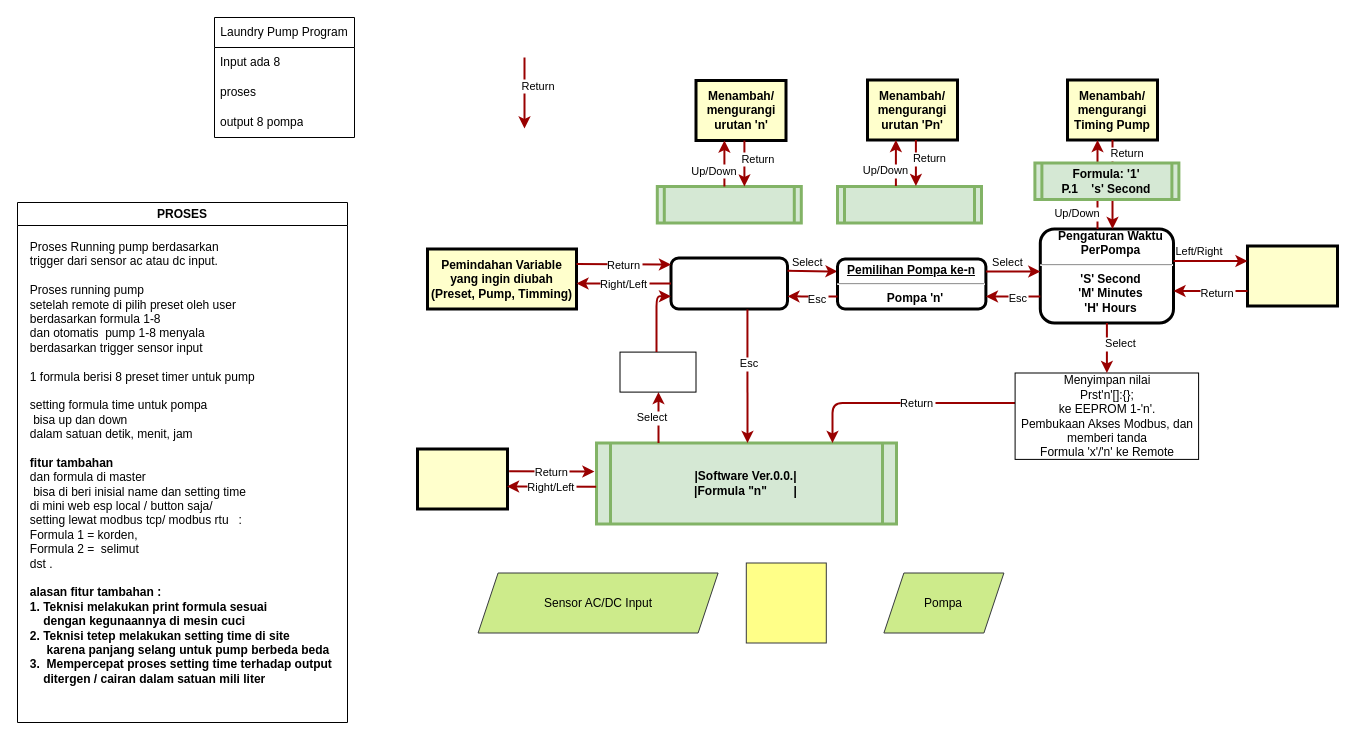
This 1356x740 diagram has some shape labels left out. Each missing label, with the centre of its shape:
"Formula: 'n' 'Pn' 't' Second" belongs at point 728,204.
"Formula: 1 'Pn' 't' Second" belongs at point 909,204.
"Matrix Array" belongs at point 785,602.
"Mengganti Satuan Waktu S,M,H" belongs at point 1292,275.
"Next/Previous Preset" belongs at point 462,478.
"Pemilihan Preset Preset 'n'" belongs at point 728,283.
"Penutupan Akses Modbus," belongs at point 657,371.
